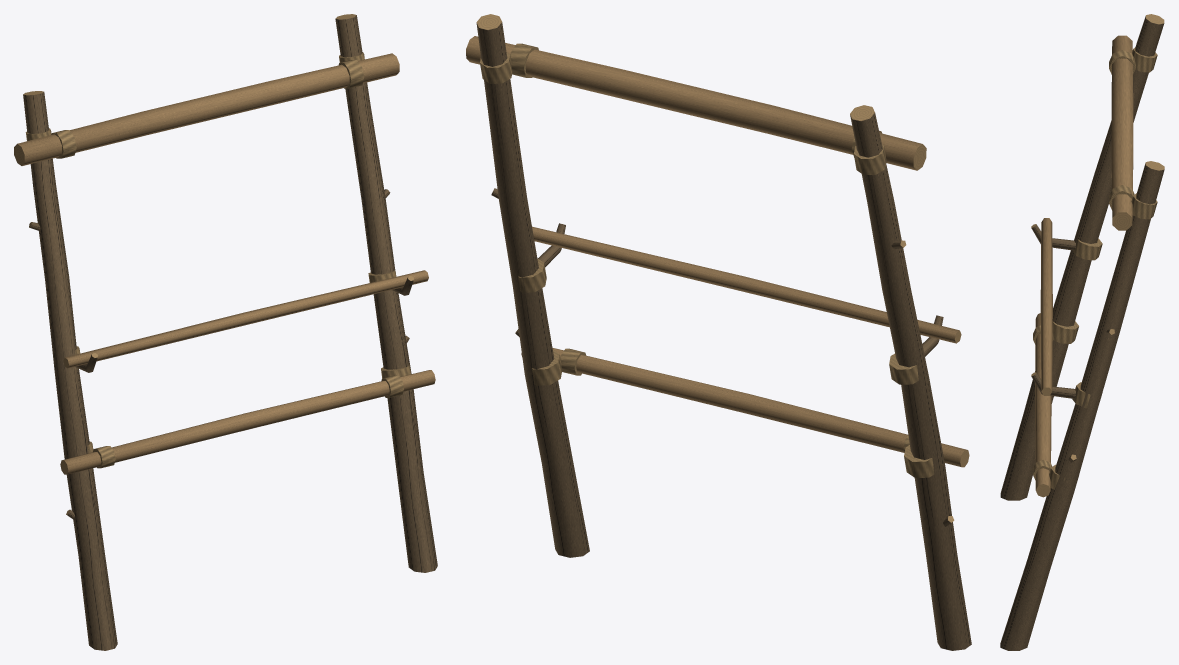
Rendered from loom_frame.glb.
The picture shows the model from 3 angles, left to right: view 1: azimuth 30°, elevation 25°; view 2: azimuth 150°, elevation 25°; view 3: azimuth 270°, elevation 25°; orthographic projection. The views are drawn at different scales.
Parts seen in each view (by area): view 1: frame; view 2: frame; view 3: frame.
Part boxes in pixels (x1,y1,x2,y2): frame: (14,14,437,650); frame: (466,14,971,650); frame: (1000,14,1164,650).
Size of the model in its own units: 1.5 by 1.91 by 0.5916.
Materials: 1 (1 with a texture image).
